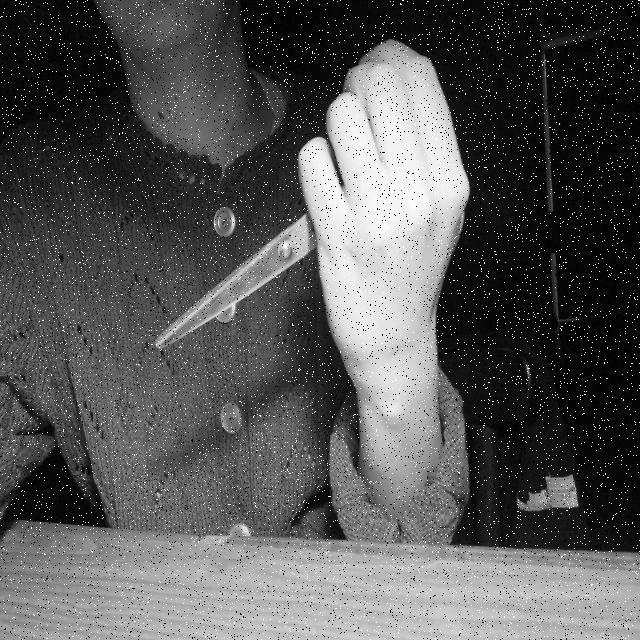scissors: (145, 28, 485, 369)
